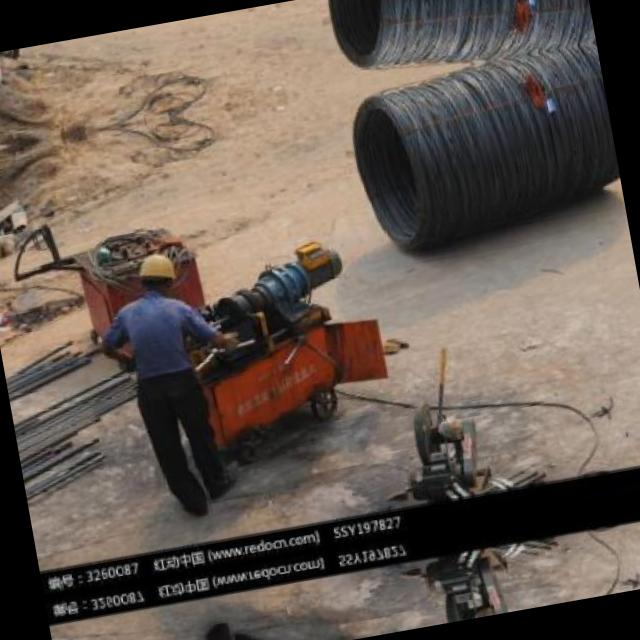helmet: (131, 247, 182, 297)
